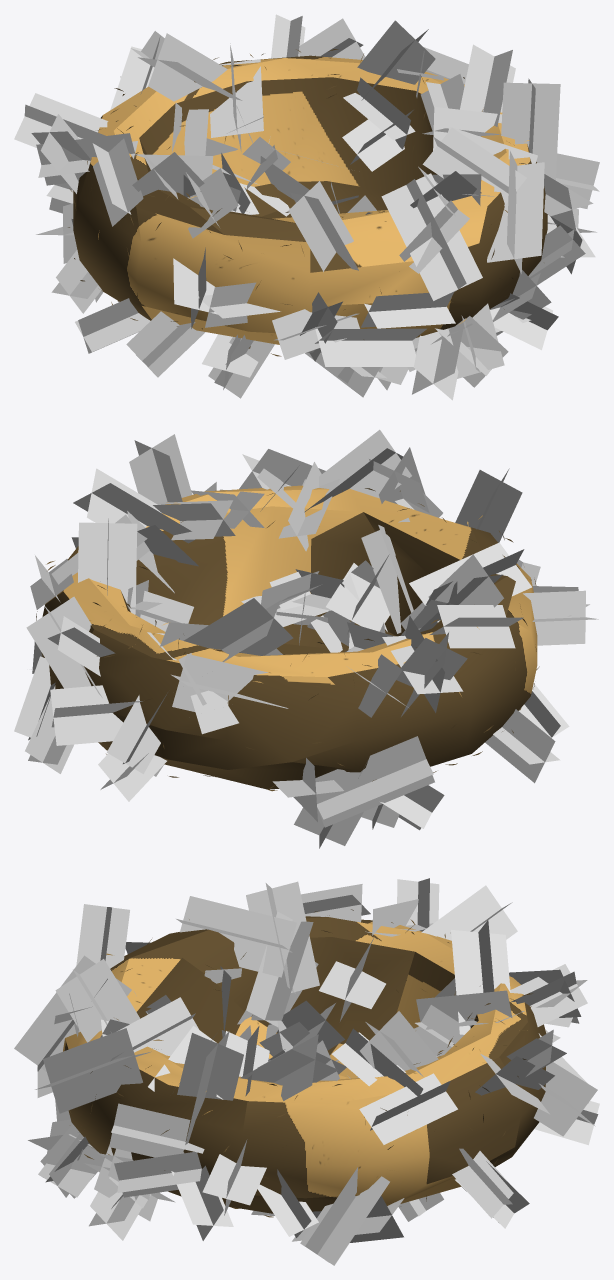
File: Nest.fbx
The picture shows the model from 3 angles, top to bottom: view 1: azimuth 30°, elevation 25°; view 2: azimuth 150°, elevation 25°; view 3: azimuth 270°, elevation 25°; orthographic projection. The views are drawn at different scales.
Visible parts, largest first — view 1: Branches, Nest; view 2: Branches, Nest; view 3: Branches, Nest.
Boxes of the visible parts, bbox=[...] form: Branches: bbox=[14, 14, 599, 400]; Nest: bbox=[68, 49, 558, 356]; Branches: bbox=[14, 429, 598, 848]; Nest: bbox=[36, 485, 539, 791]; Branches: bbox=[14, 878, 599, 1265]; Nest: bbox=[63, 909, 546, 1217].
Bounding box in the file's own units: 291 × 136 × 294.
